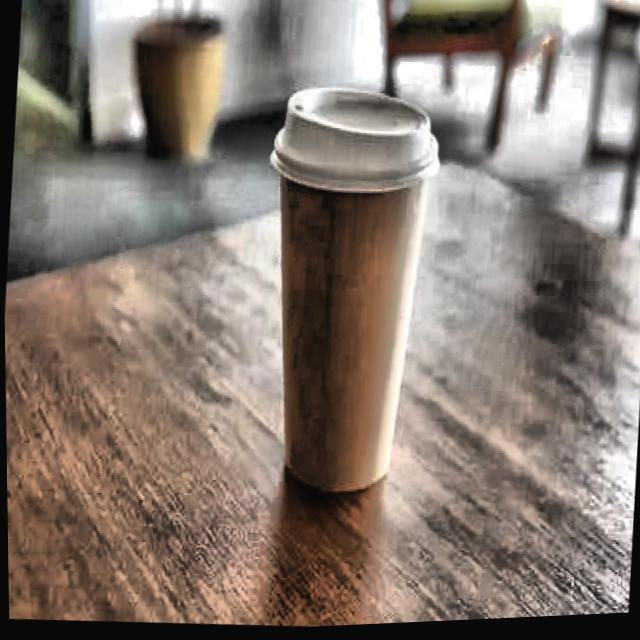Cup: (236, 77, 457, 531)
